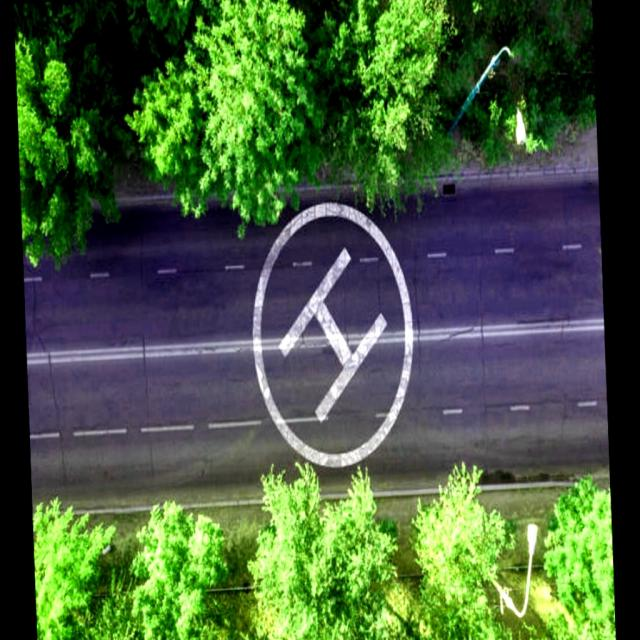helipad: (247, 195, 417, 472)
